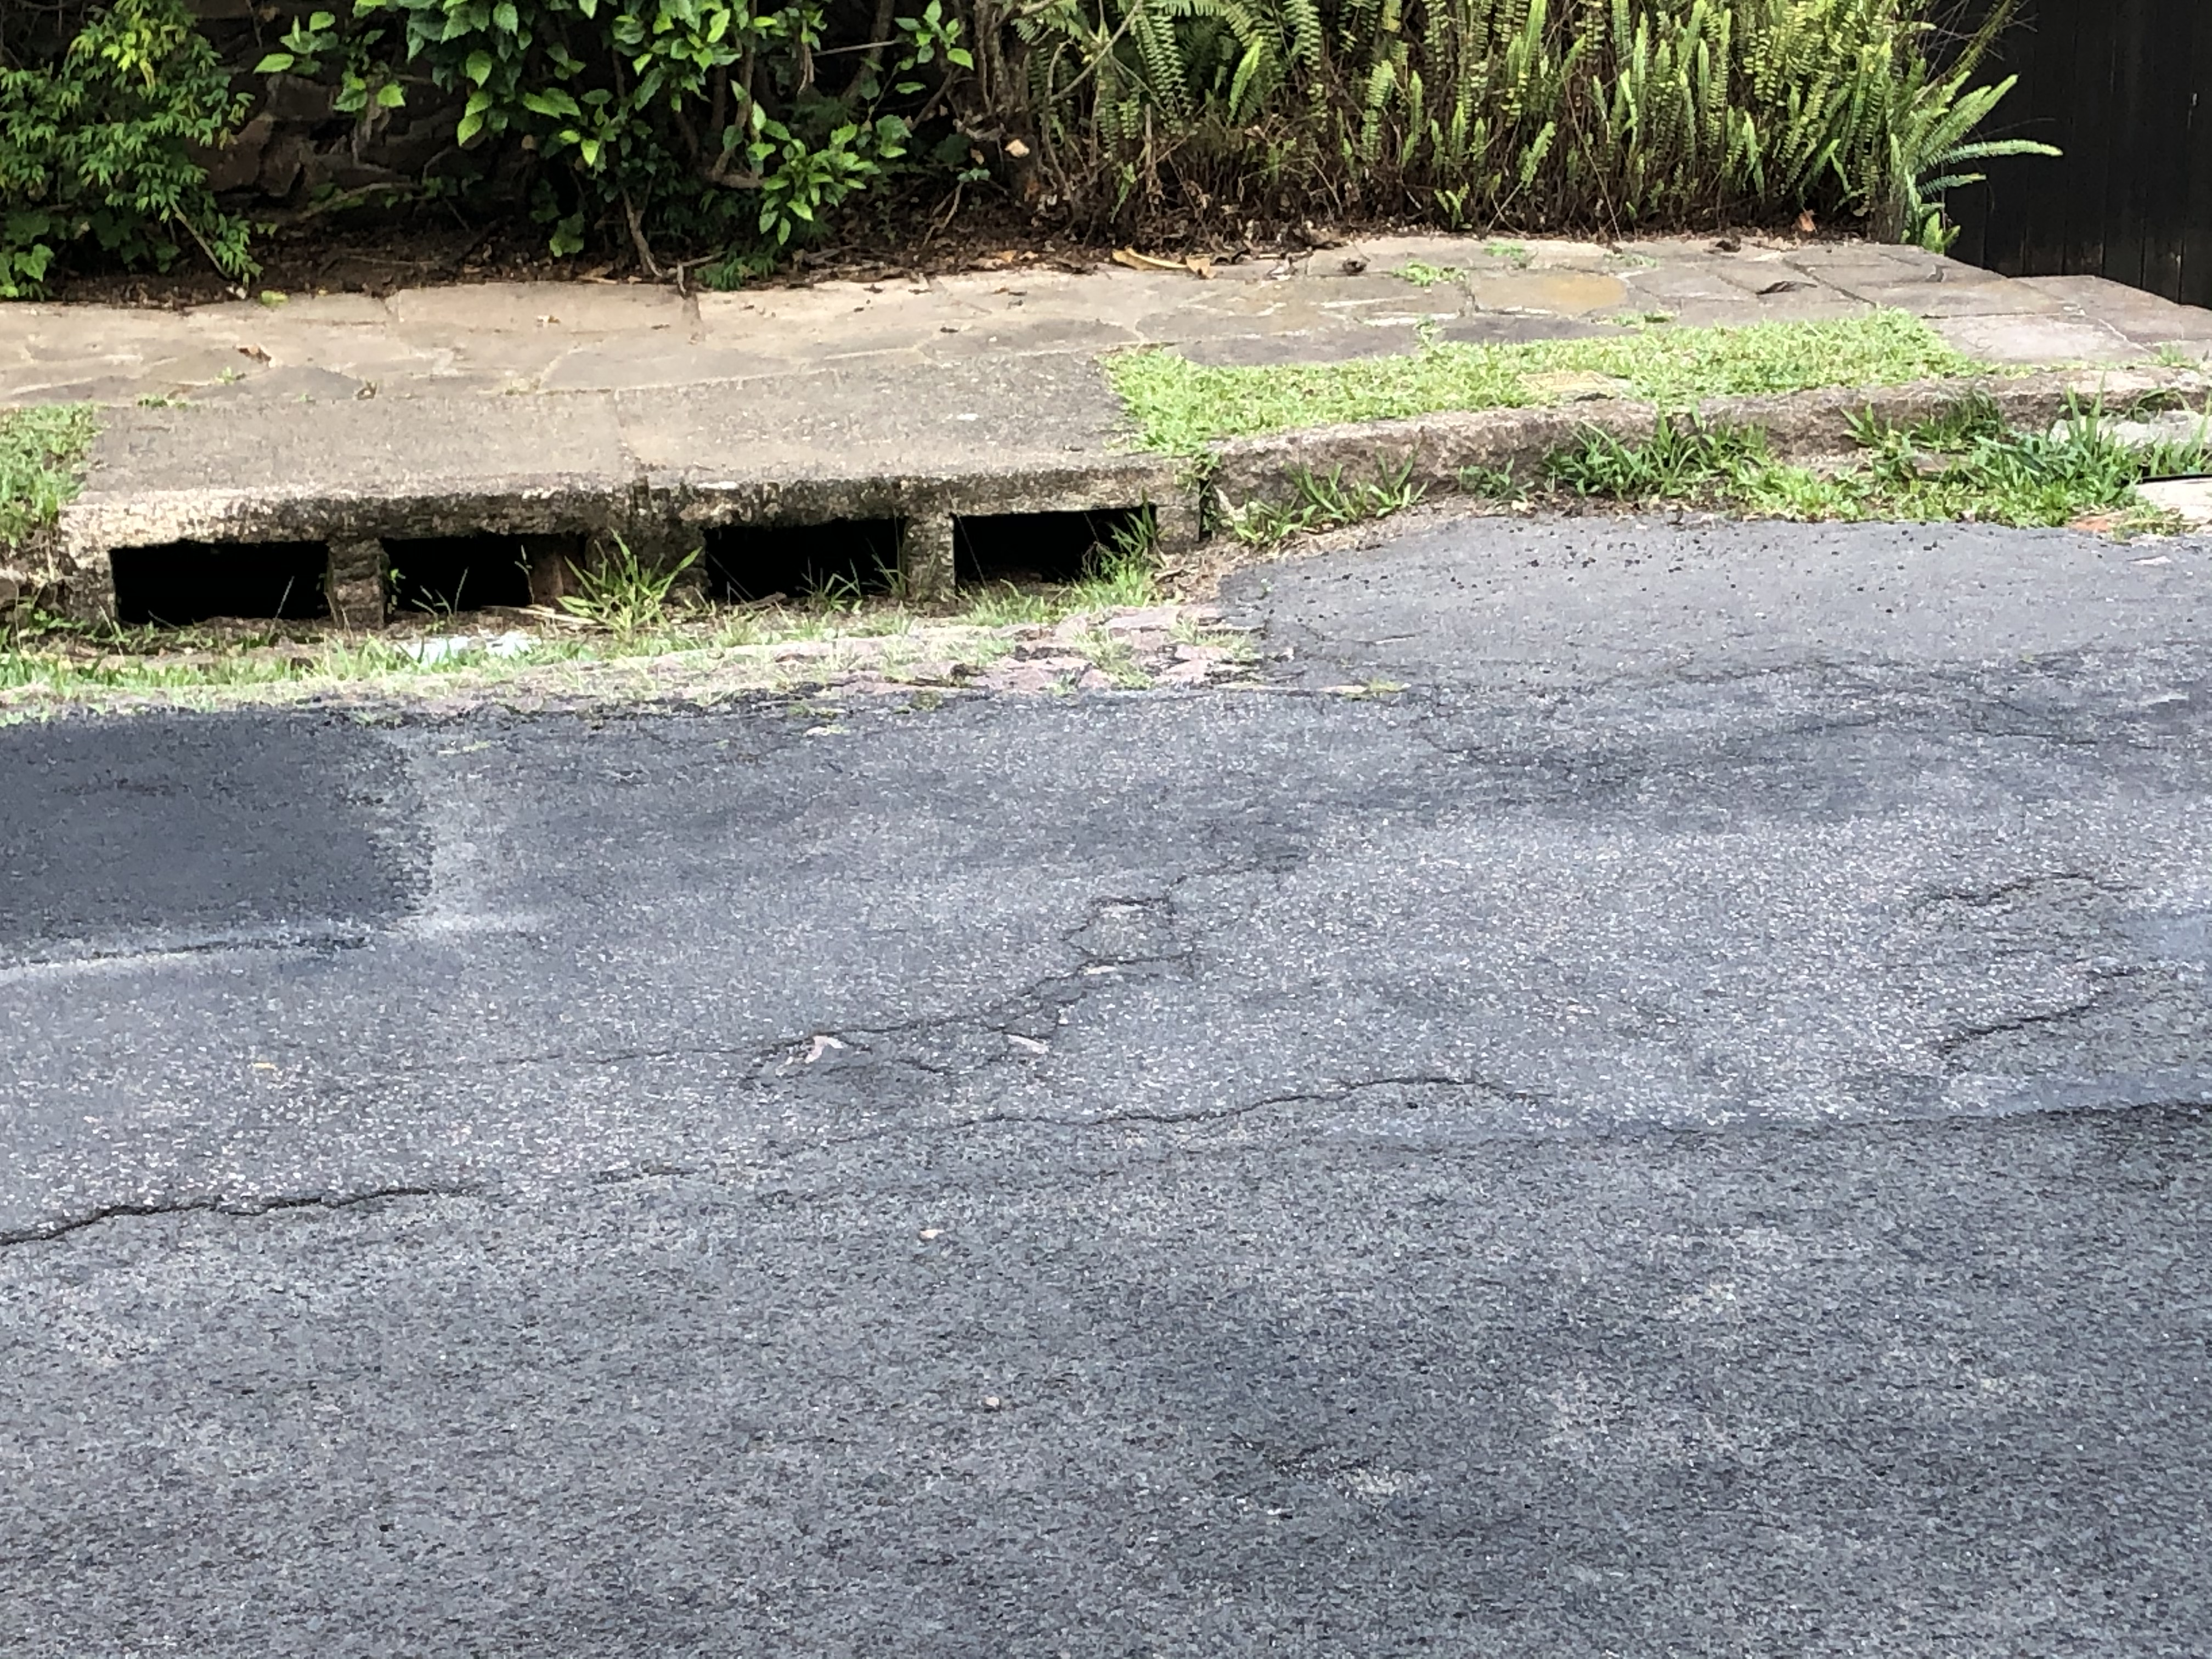vag14: (9, 10, 2209, 835)
